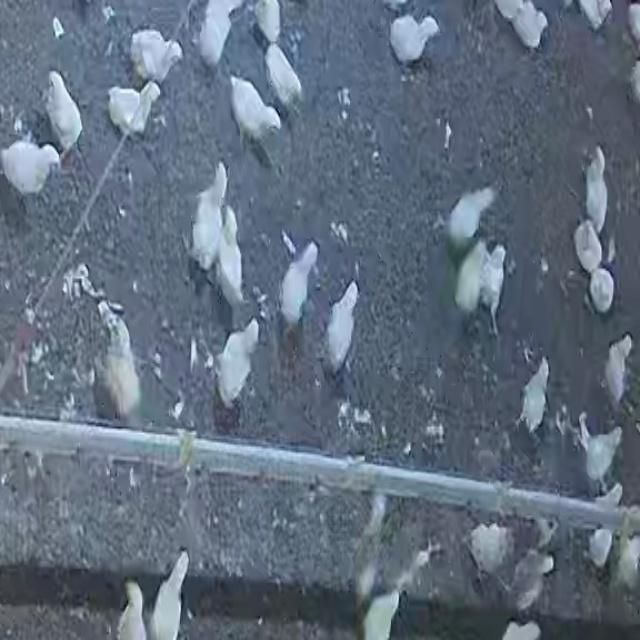chicken: (95, 306, 145, 423), (190, 158, 227, 273), (216, 317, 260, 409), (230, 72, 284, 146), (149, 550, 191, 640), (322, 281, 363, 372), (0, 137, 61, 196), (196, 0, 250, 66), (279, 241, 318, 329), (45, 70, 83, 156), (107, 78, 161, 138), (448, 184, 500, 246), (128, 27, 183, 85), (216, 206, 246, 308), (490, 0, 549, 50), (265, 41, 304, 112), (509, 550, 553, 609), (519, 356, 551, 436), (388, 13, 439, 63), (478, 244, 508, 328), (592, 477, 620, 566), (585, 426, 624, 485), (458, 237, 485, 316), (605, 334, 634, 407), (359, 591, 402, 640), (584, 147, 608, 232), (116, 582, 148, 640), (576, 214, 601, 275), (589, 268, 615, 316)
